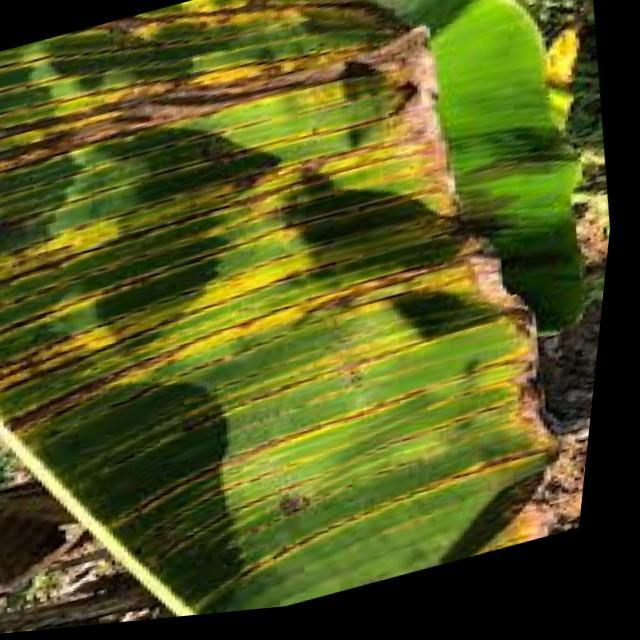Early_rust: (0, 0, 600, 604)
